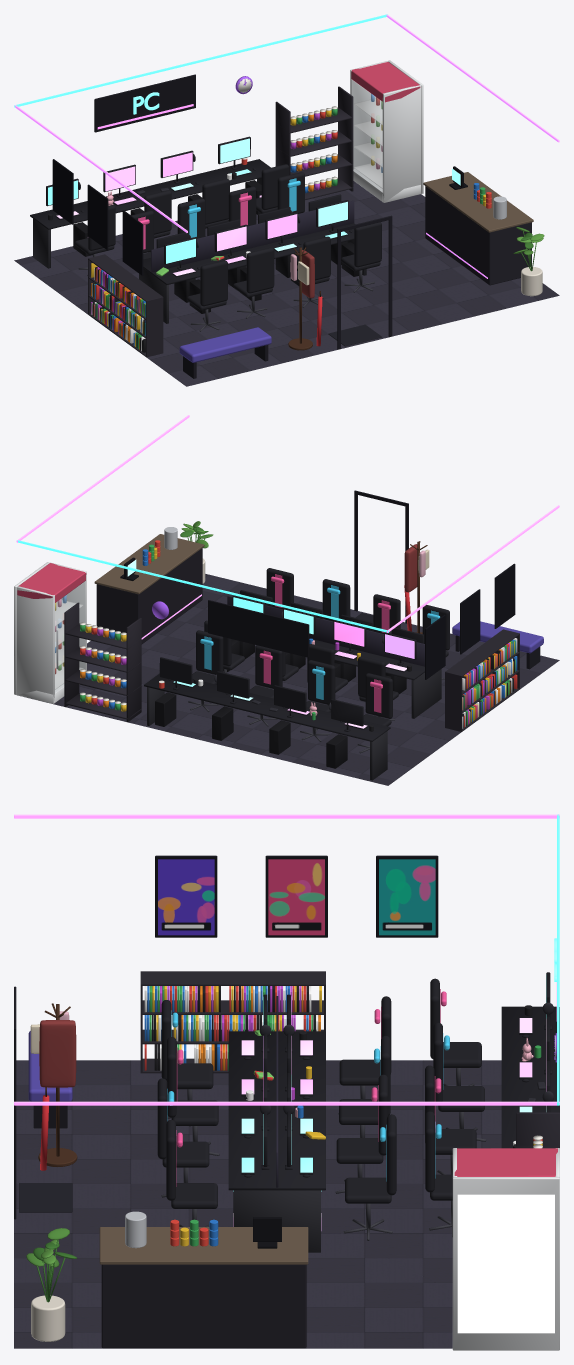
The model's file is place_arcade-CBlHooN6.glb.
The picture shows the model from 3 angles, top to bottom: view 1: azimuth 30°, elevation 25°; view 2: azimuth 150°, elevation 25°; view 3: azimuth 270°, elevation 25°; orthographic projection. The views are drawn at different scales.
Parts seen in each view (by area): view 1: Floor_place, Fridge_drinks-fridge, Counter_counter, PC_pc-island, Shelf_noodle-shelf, MangaShelf_manga-shelf, PC_pc-row-north, Wall_neon_neon-sign, Wall_posters, PC_pc-island_glow, Wall_led, Bench_bench (+17 smaller); view 2: Floor_place, PC_pc-row-north, Fridge_drinks-fridge, Counter_counter, PC_pc-island, Shelf_noodle-shelf, MangaShelf_manga-shelf, Wall_neon_neon-sign, Wall_posters, Wall_led, PC_pc-island_glow, Chairs_pc-chairs-north_03 (+14 smaller); view 3: Floor_place, Counter_counter, PC_pc-island, Wall_posters, Fridge_drinks-fridge_glow, MangaShelf_manga-shelf, Fridge_drinks-fridge, Wall_led, PC_pc-row-north, CoatRack_coat-rack, Plant_plant-se, Chairs_pc-chairs-island_03 (+16 smaller).
Part boxes in pixels (bbox=[...]): Floor_place: bbox=[14, 181, 559, 386]; Fridge_drinks-fridge: bbox=[350, 60, 423, 202]; Counter_counter: bbox=[423, 166, 533, 285]; PC_pc-island: bbox=[139, 194, 366, 323]; Shelf_noodle-shelf: bbox=[275, 86, 353, 199]; MangaShelf_manga-shelf: bbox=[88, 254, 163, 357]; PC_pc-row-north: bbox=[30, 136, 270, 268]; Wall_neon_neon-sign: bbox=[94, 74, 195, 132]; Wall_posters: bbox=[52, 159, 143, 275]; PC_pc-island_glow: bbox=[166, 201, 347, 275]; Wall_led: bbox=[14, 14, 559, 232]; Bench_bench: bbox=[179, 327, 271, 378]; Floor_place: bbox=[17, 574, 559, 785]; PC_pc-row-north: bbox=[144, 657, 390, 780]; Fridge_drinks-fridge: bbox=[14, 562, 86, 703]; Counter_counter: bbox=[94, 527, 204, 644]; PC_pc-island: bbox=[223, 590, 441, 718]; Shelf_noodle-shelf: bbox=[64, 602, 141, 722]; MangaShelf_manga-shelf: bbox=[445, 629, 519, 731]; Wall_neon_neon-sign: bbox=[208, 600, 309, 657]; Wall_posters: bbox=[425, 563, 515, 679]; Wall_led: bbox=[16, 415, 559, 632]; PC_pc-island_glow: bbox=[233, 597, 414, 670]; Chairs_pc-chairs-north_03: bbox=[188, 630, 223, 711]; Floor_place: bbox=[14, 1060, 501, 1348]; Counter_counter: bbox=[99, 1211, 308, 1348]; PC_pc-island: bbox=[228, 994, 325, 1252]; Wall_posters: bbox=[155, 855, 438, 937]; Fridge_drinks-fridge_glow: bbox=[457, 1194, 554, 1333]; MangaShelf_manga-shelf: bbox=[140, 971, 325, 1073]; Fridge_drinks-fridge: bbox=[452, 1148, 559, 1350]; Wall_led: bbox=[14, 814, 559, 1105]; PC_pc-row-north: bbox=[501, 972, 559, 1148]; CoatRack_coat-rack: bbox=[30, 1003, 77, 1170]; Plant_plant-se: bbox=[26, 1228, 77, 1341]; Chairs_pc-chairs-island_03: bbox=[343, 1114, 396, 1240].
Size of the model in its own units: 7.05 by 2.79 by 5.6.
Materials: 92 (4 with a texture image).
